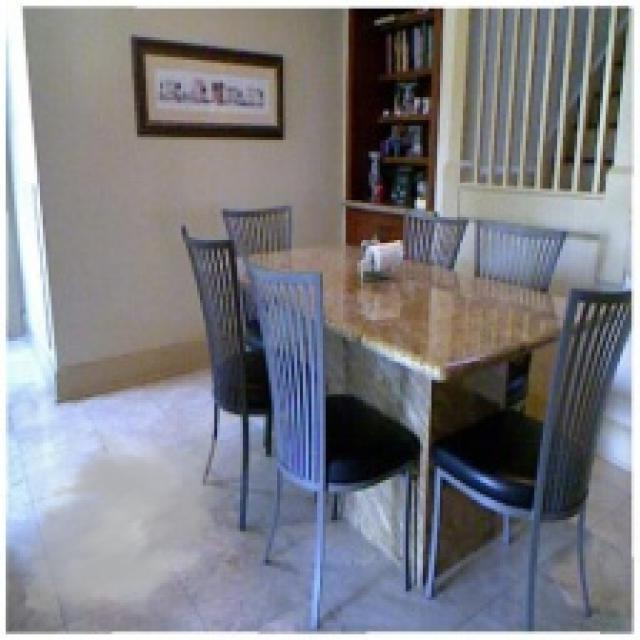Smoke: (15, 414, 232, 629)
